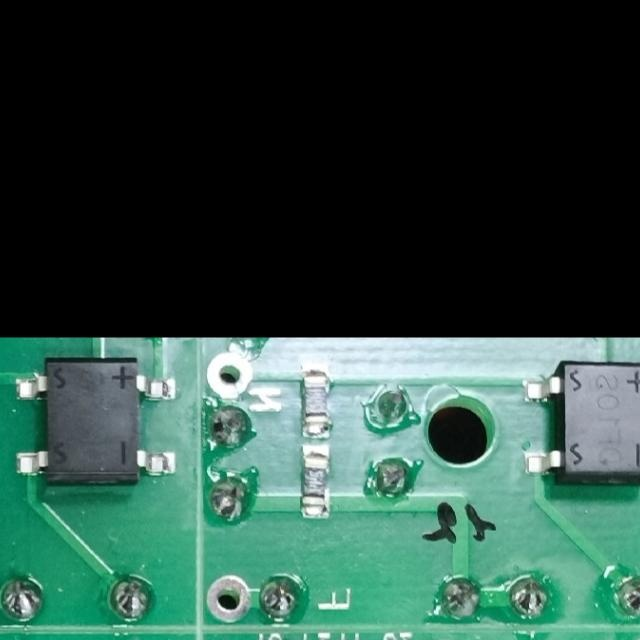chip-resistor: (296, 361, 332, 439), (295, 441, 329, 519)
ic: (10, 354, 178, 487), (517, 358, 640, 488)
